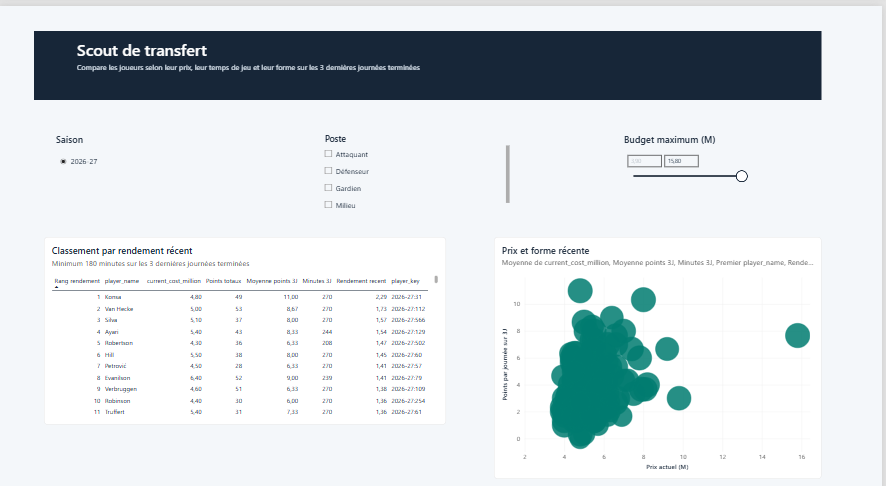

The dashboard page shown, as its layout file describes it:
{"tool":"powerbi","page":{"name":"Scout de transfert","canvas":[1920,1080],"ordinal":1},"visuals":[{"type":"slicer","title":"Saison","fields":{"Values":["dim_event.season"]},"box":[126,276,361.1,138.9],"z":0},{"type":"slicer","fields":{"Values":["dim_player.Poste"]},"box":[702,276,410,164],"z":1000},{"type":"slicer","title":"Budget maximum (M)","fields":{"Values":["dim_player.current_cost_million"]},"box":[1360,276,272,164],"z":2000},{"type":"tableEx","title":"Classement par rendement récent","fields":{"Values":["fact_player_match.Rang rendement","dim_player.player_name","dim_player.current_cost_million","fact_player_match.Points totaux","fact_player_match.Moyenne points 3J","fact_player_match.Minutes 3J","fact_player_match.Rendement recent","dim_player.player_key"]},"box":[100,502.2,873.9,526.1],"z":3000},{"type":"scatterChart","title":"Prix et forme récente","fields":{"Category":["dim_player.player_key"],"Size":["fact_player_match.Minutes 3J"],"X":["dim_player.current_cost_million"],"Y":["fact_player_match.Moyenne points 3J"]},"box":[1078,502,712,526],"z":4000},{"type":"shape","box":[78,54,1712,150],"z":4001},{"type":"textbox","title":"Scout de transfert","box":[172,72,802,150],"z":4002}]}

Visuals, with their boxes in screenshot pixels (x1, y1, x2, y2), scaled from the page's 1920x1080 canvas onto the 886x486 screenshot:
"Saison" slicer: (x1=58, y1=124, x2=225, y2=187)
slicer - dim_player.Poste: (x1=324, y1=124, x2=513, y2=198)
"Budget maximum (M)" slicer: (x1=628, y1=124, x2=753, y2=198)
"Classement par rendement récent" tableEx: (x1=46, y1=226, x2=449, y2=463)
"Prix et forme récente" scatterChart: (x1=497, y1=226, x2=826, y2=463)
shape: (x1=36, y1=24, x2=826, y2=92)
"Scout de transfert" textbox: (x1=79, y1=32, x2=449, y2=100)
